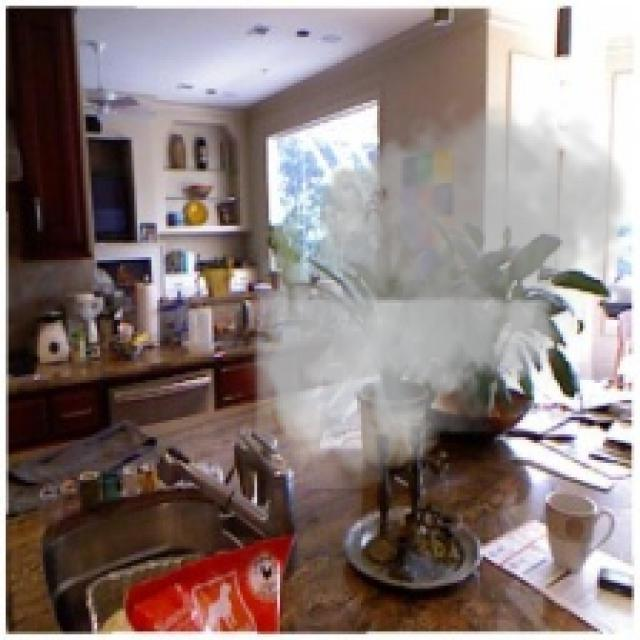Smoke: (240, 89, 634, 488)
